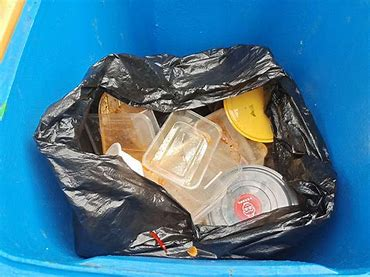garbage: (82, 86, 304, 247)
